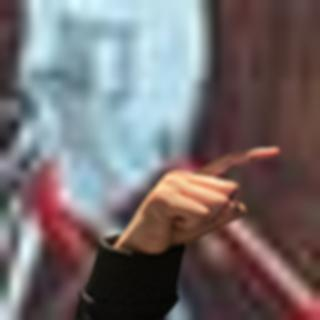WHY: (113, 137, 286, 253)
